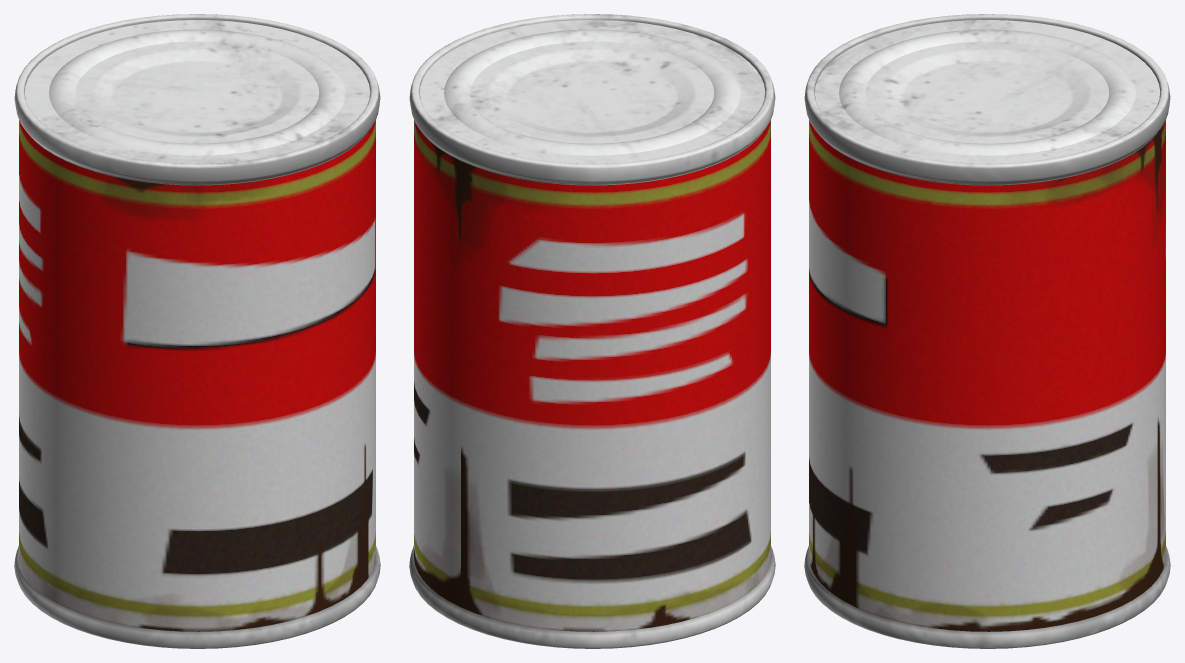
The model's file is SM_FoodCan01.fbx.
3 views of the same model, side by side, from view 1: azimuth 30°, elevation 25°; view 2: azimuth 150°, elevation 25°; view 3: azimuth 270°, elevation 25° (orthographic).
Visible parts, largest first — view 1: SM_FoodCan01_LOD0; view 2: SM_FoodCan01_LOD0; view 3: SM_FoodCan01_LOD0.
Part boxes in pixels (left/top/right/bottom): SM_FoodCan01_LOD0: left=14, top=14, right=380, bottom=648; SM_FoodCan01_LOD0: left=409, top=14, right=775, bottom=648; SM_FoodCan01_LOD0: left=804, top=14, right=1170, bottom=648.
Bounding box in the file's own units: 10.33 × 10.33 × 15.16.
1 material, 1 textured.
